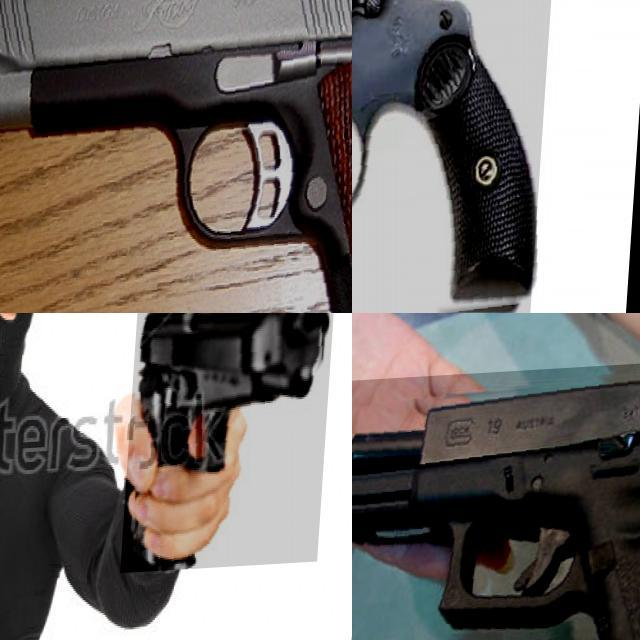gun-knife-thesis - v11 Yolov5 augmented: (0, 0, 352, 313), (352, 0, 614, 313), (352, 356, 640, 640), (126, 313, 338, 578)
